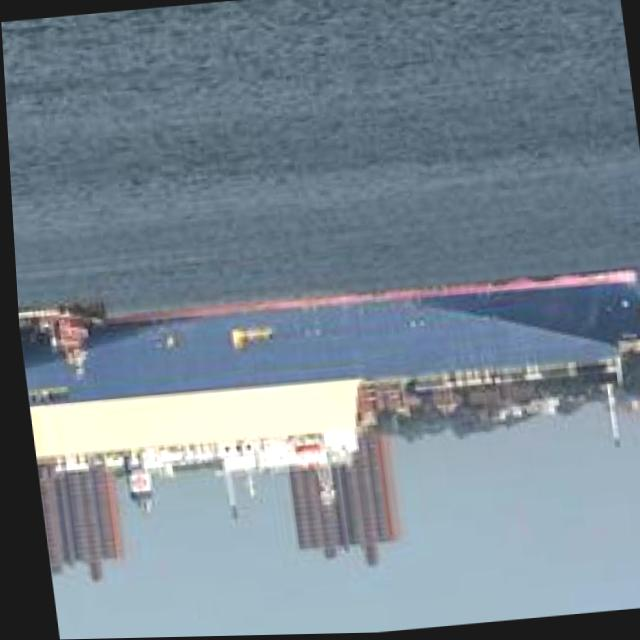ship2: (16, 268, 640, 528)
